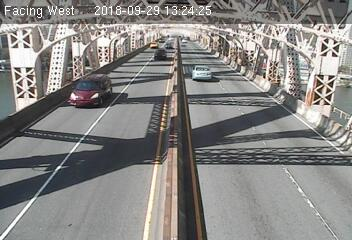car: (65, 73, 114, 108), (188, 61, 215, 83), (154, 48, 168, 64), (148, 40, 159, 49)
